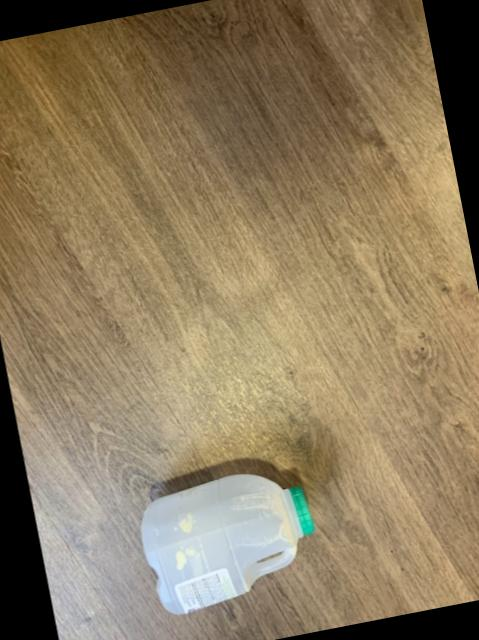plastic: (141, 475, 314, 615)
